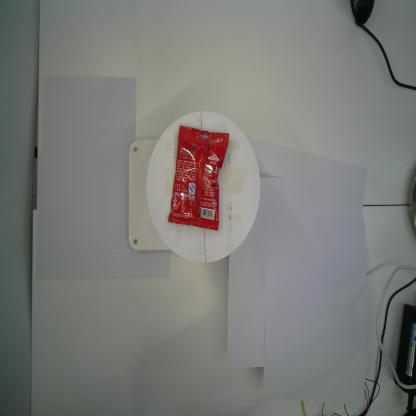Instant Drink: (166, 123, 231, 233)
